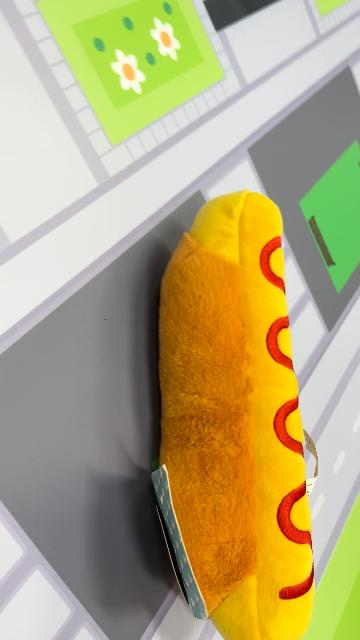hotdog: (154, 190, 318, 638)
